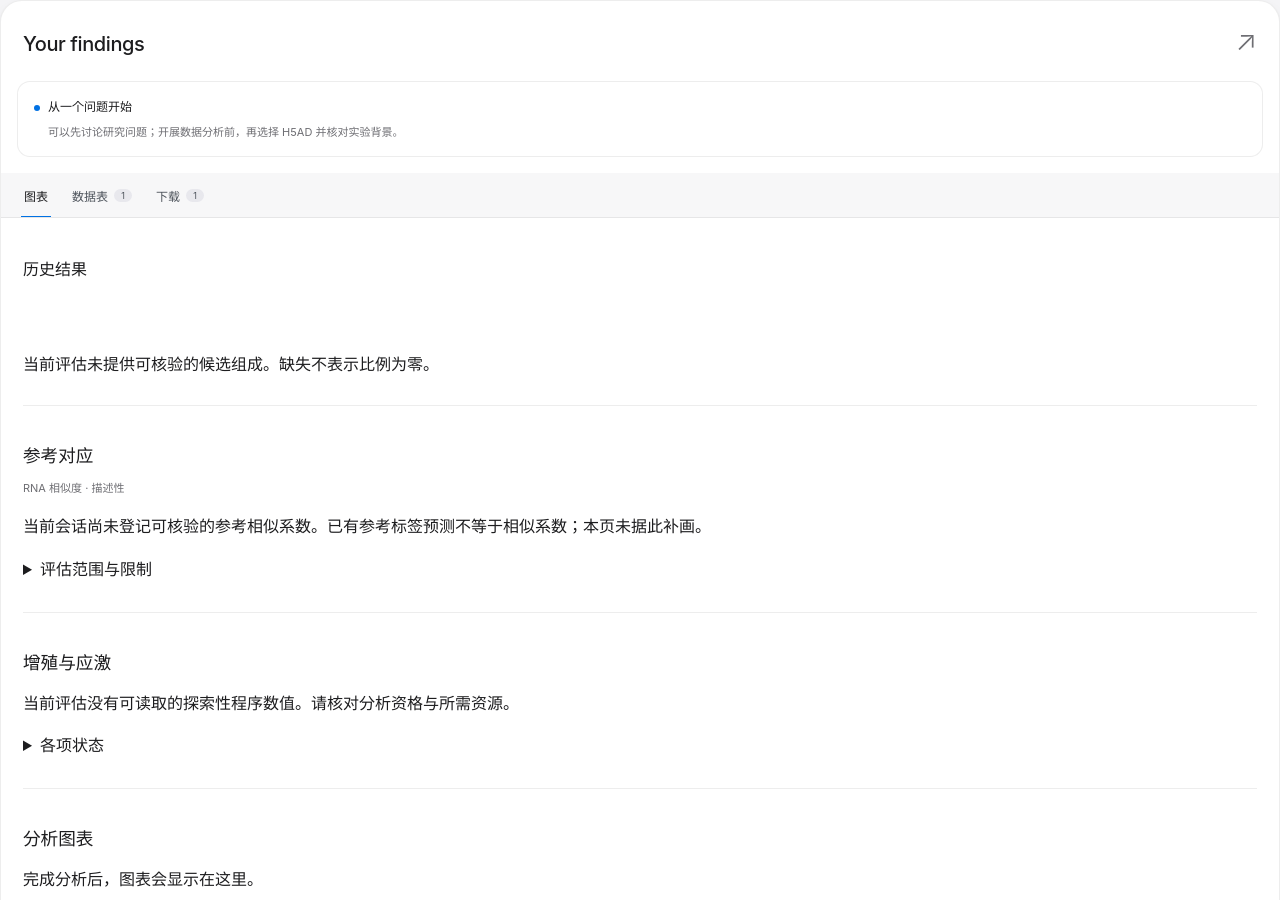
Test case: ResultsPane › fetches a registered octet-stream Parquet preview and renders inert table cells
Click the tab "数据表 1". click: (102, 195)
box: x1=69 y1=173 x2=135 y2=217
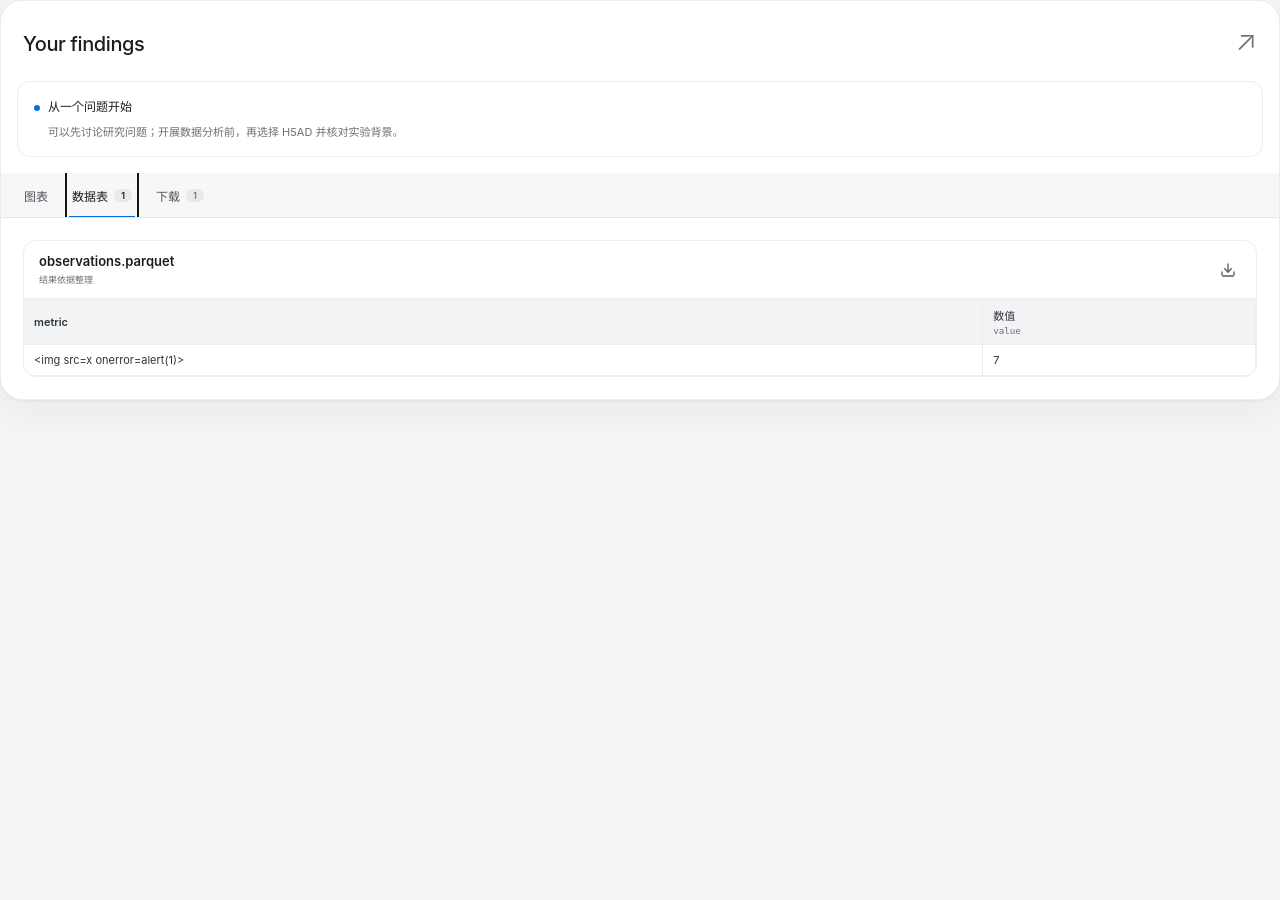
Expected: the column heading "metric" is shown, x1=24 y1=299 x2=983 y2=345
Expected: the cell "<img src=x onerror=alert(1)>" is shown, x1=24 y1=345 x2=983 y2=376
Expected: the cell "7" is shown, x1=983 y1=345 x2=1256 y2=376
